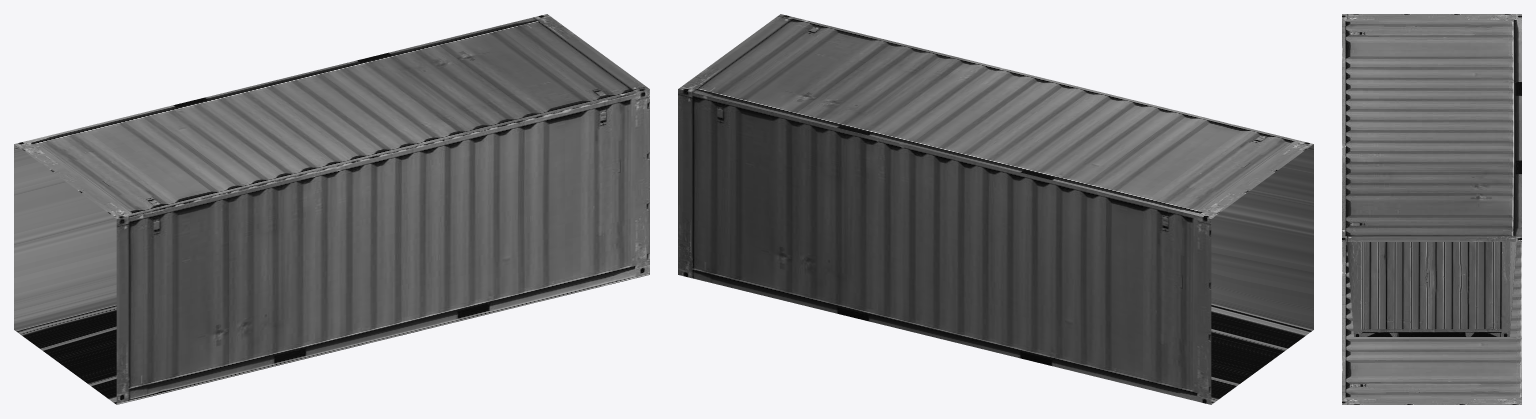
File: OpenContainer2.fbx
The picture shows the model from 3 angles, left to right: view 1: azimuth 30°, elevation 25°; view 2: azimuth 150°, elevation 25°; view 3: azimuth 270°, elevation 25°; orthographic projection. The views are drawn at different scales.
Parts seen in each view (by area): view 1: Container:Container; view 2: Container:Container; view 3: Container:Container.
Part boxes in pixels (bbox=[...]): Container:Container: bbox=[14, 14, 649, 404]; Container:Container: bbox=[678, 14, 1313, 404]; Container:Container: bbox=[1342, 14, 1521, 404].
Size of the model in its own units: 3 by 1 by 1.
